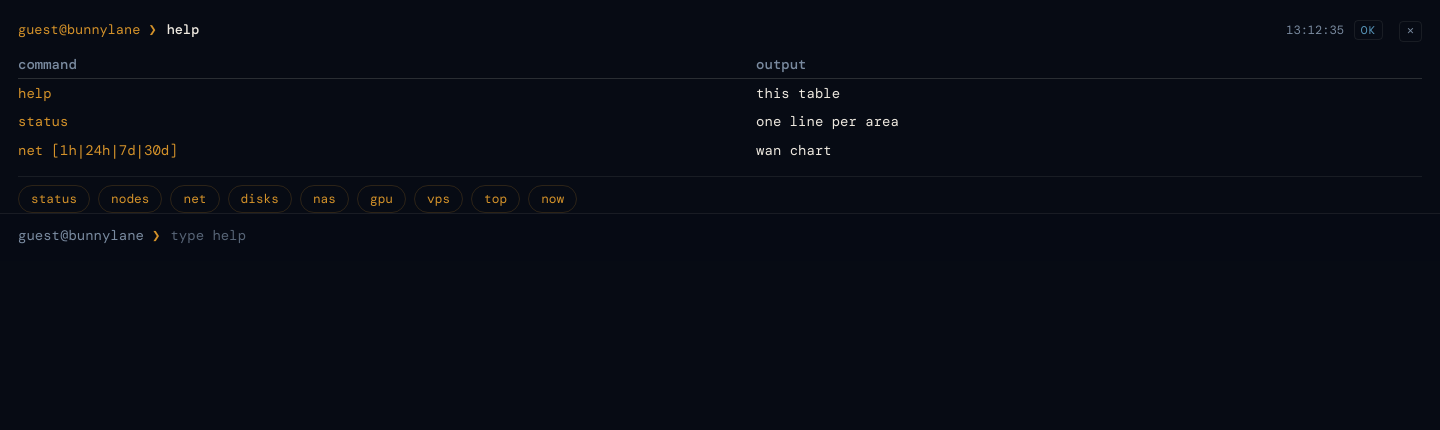
Test: a chip starts a live block and a second chip replaces it
The width and height of the screenshot is (1440, 430).
Expected: the element "help" is shown, [18,8,1422,177]
Click the button "net" at point(195, 199), box [170,185,220,213]
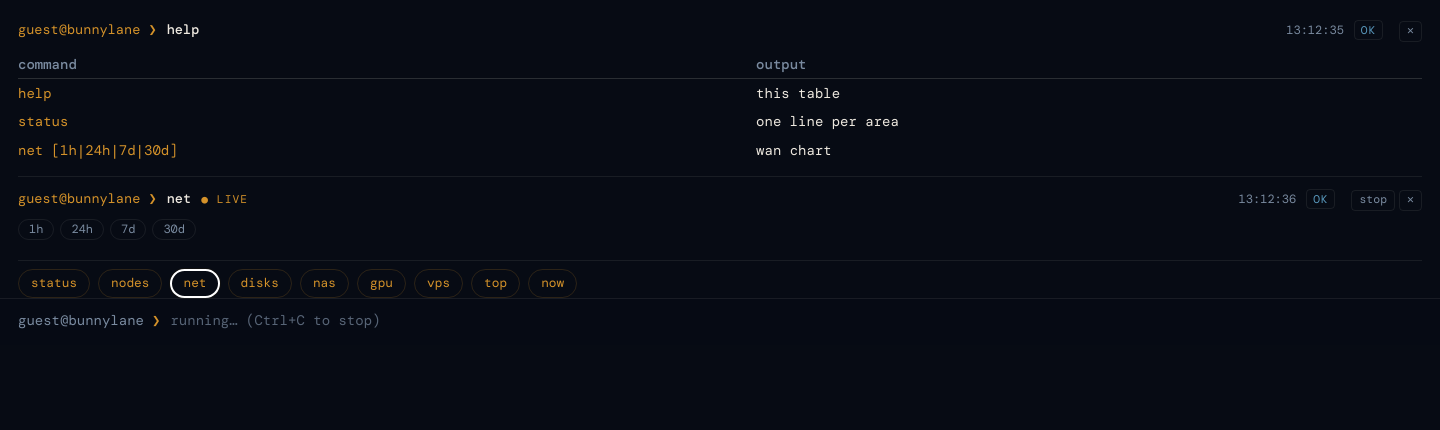
Click the button "vps" at point(438, 283), box [414,269,463,298]
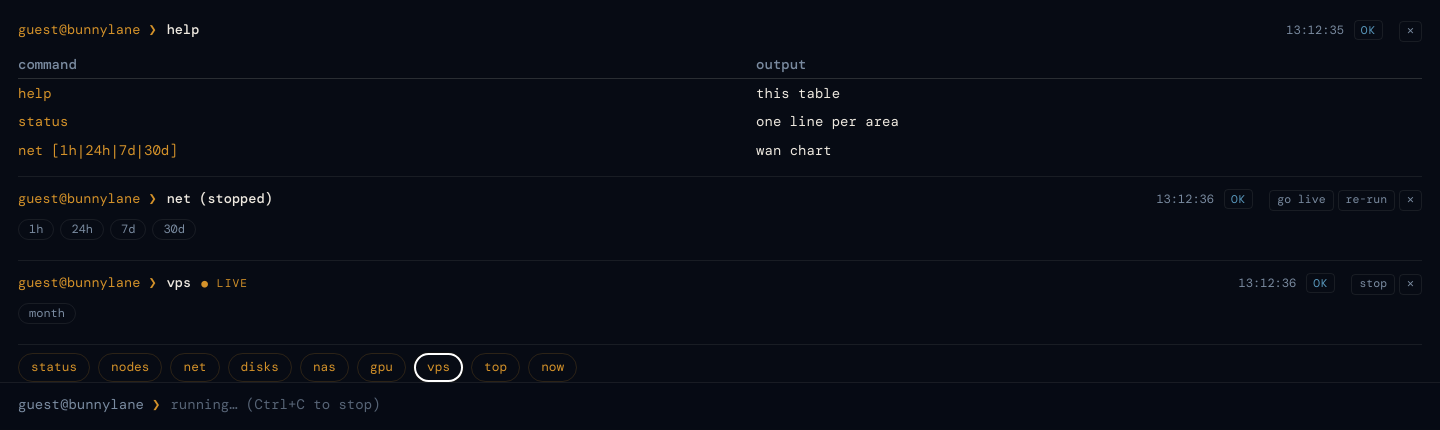
Expected: the element "net (stopped)" is shown, [18,177,1422,261]
